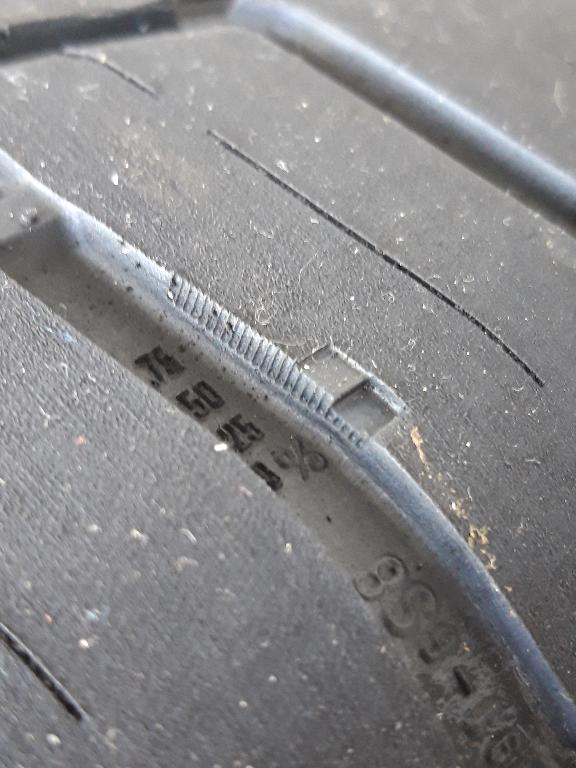temoin:25: (276, 334, 416, 465)
